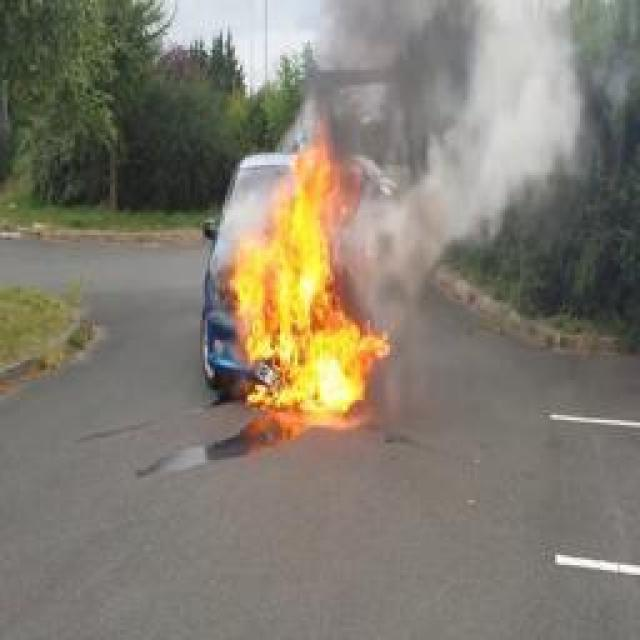Fire: (228, 112, 394, 416)
